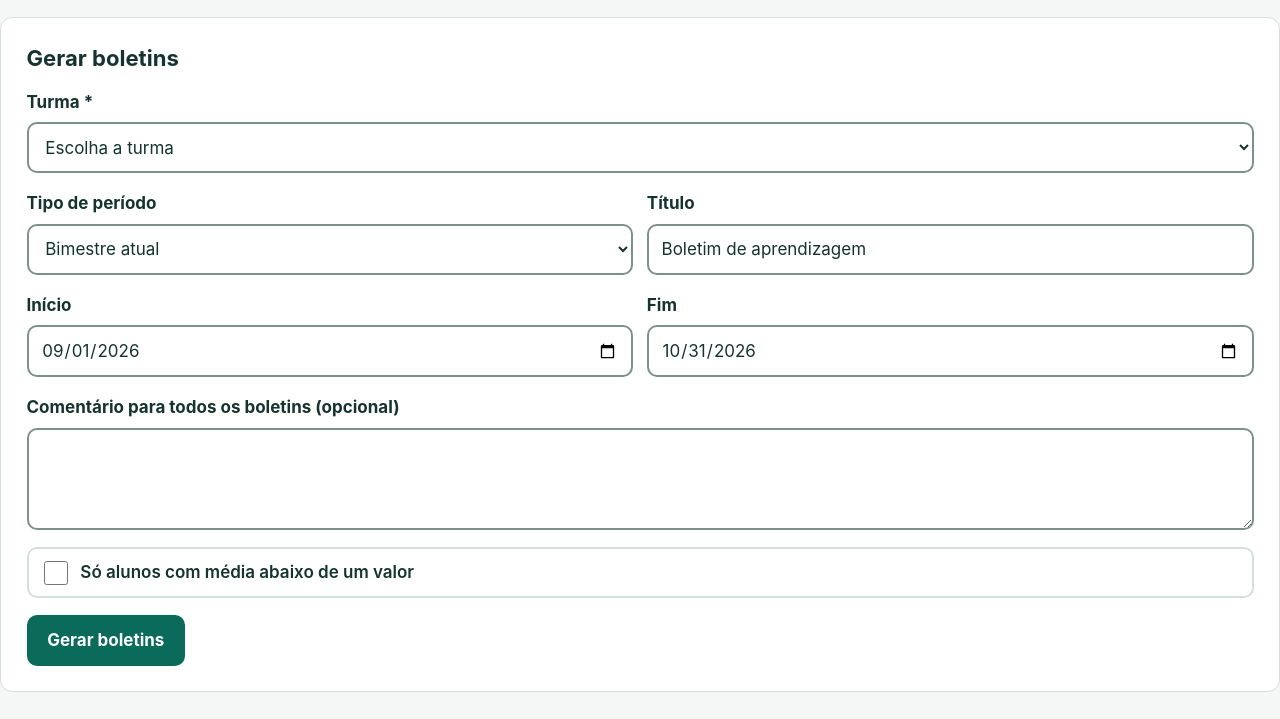
Test: generating bulletins › says what is missing instead of generating
Click the button "Gerar boletins". click: (106, 640)
box: [26,614,185,666]
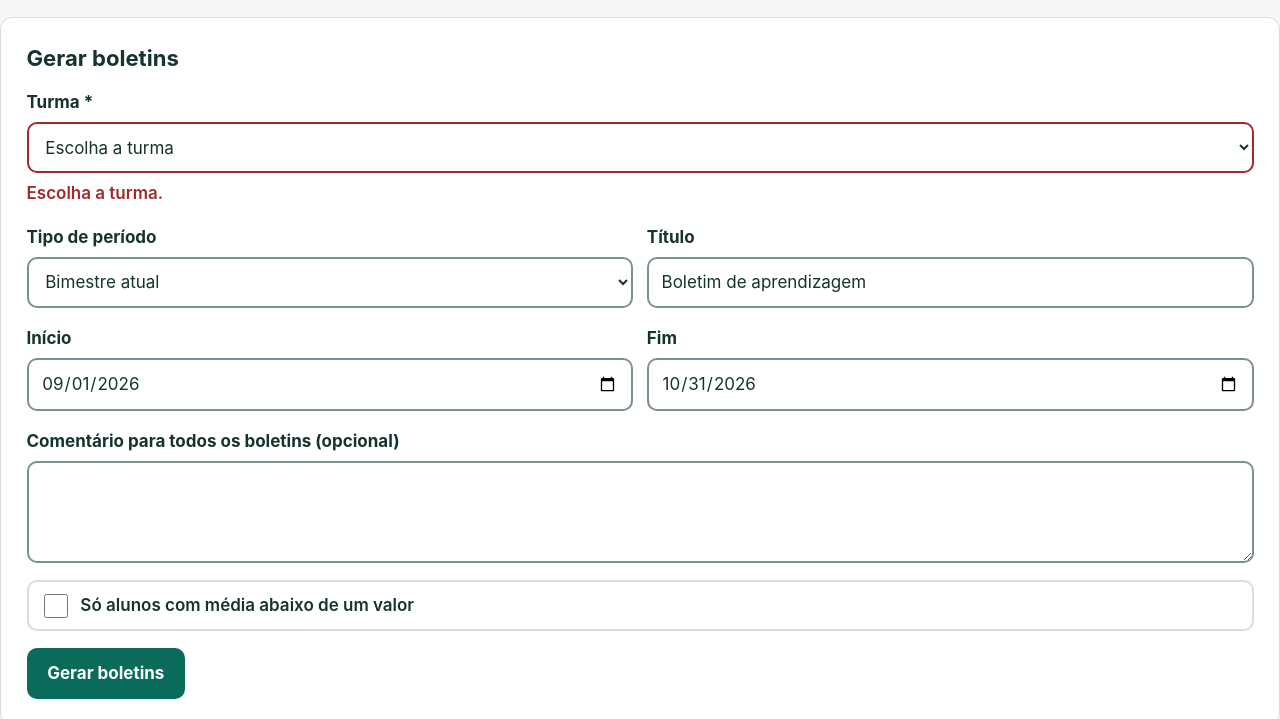
Expected: the text "Escolha a turma." is shown, [26,183,163,203]
